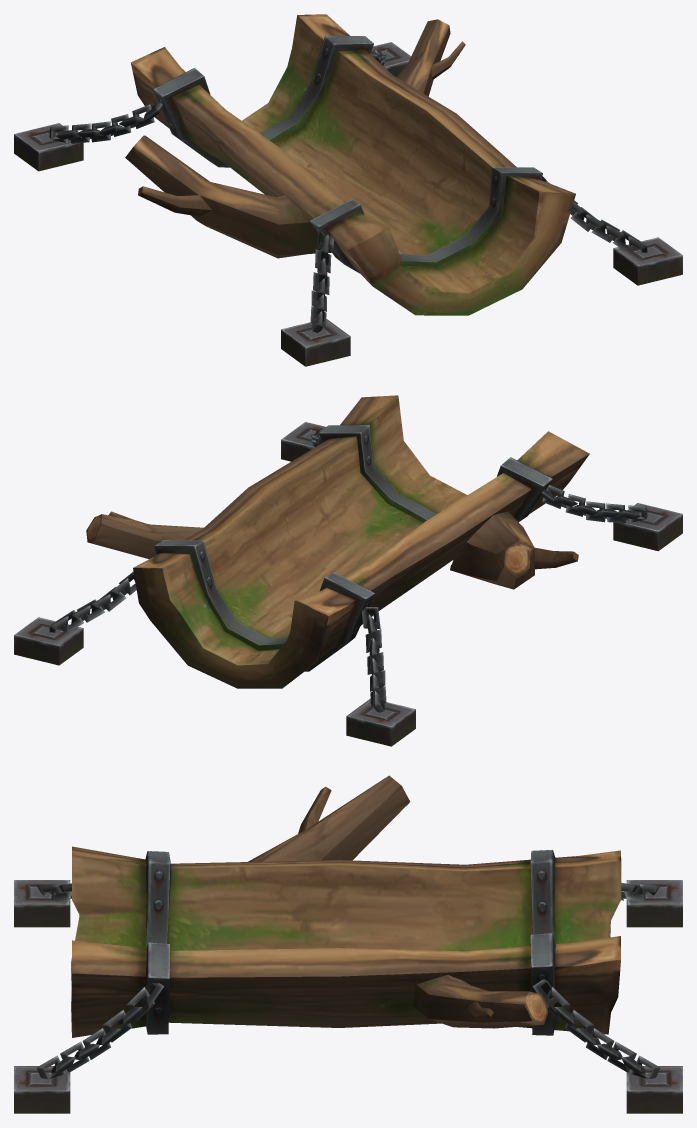
File: scene_shenmisenlin_sgq01.FBX
3 renders of one model, top to bottom at view 1: azimuth 30°, elevation 25°; view 2: azimuth 150°, elevation 25°; view 3: azimuth 270°, elevation 25°, orthographic. The views are drawn at different scales.
Visible parts, largest first — view 1: scene_shenmisenlin_sgq01; view 2: scene_shenmisenlin_sgq01; view 3: scene_shenmisenlin_sgq01.
Part boxes in pixels (bbox=[...]): scene_shenmisenlin_sgq01: bbox=[14, 14, 682, 366]; scene_shenmisenlin_sgq01: bbox=[14, 395, 682, 746]; scene_shenmisenlin_sgq01: bbox=[14, 775, 682, 1113].
Size of the model in its own units: 627 by 184 by 775.
